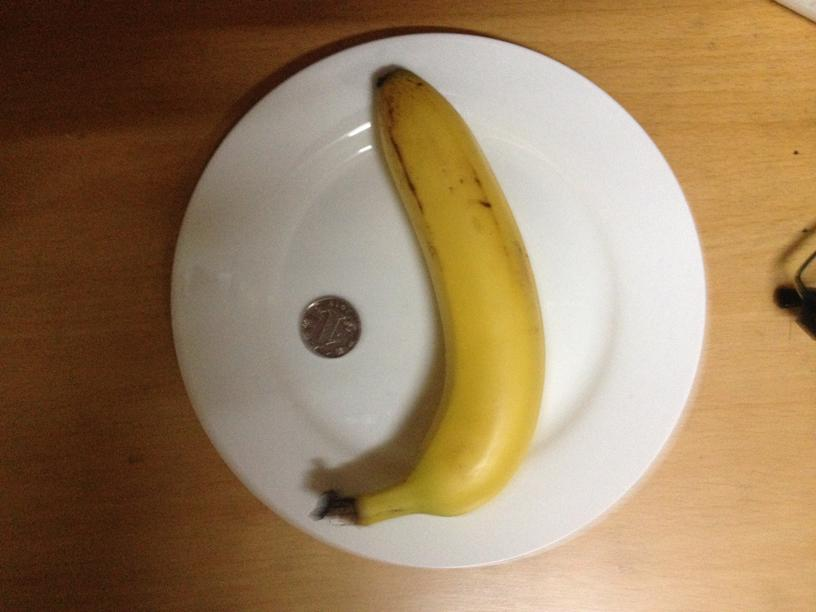banana: (346, 71, 548, 514)
coin: (295, 294, 360, 356)
